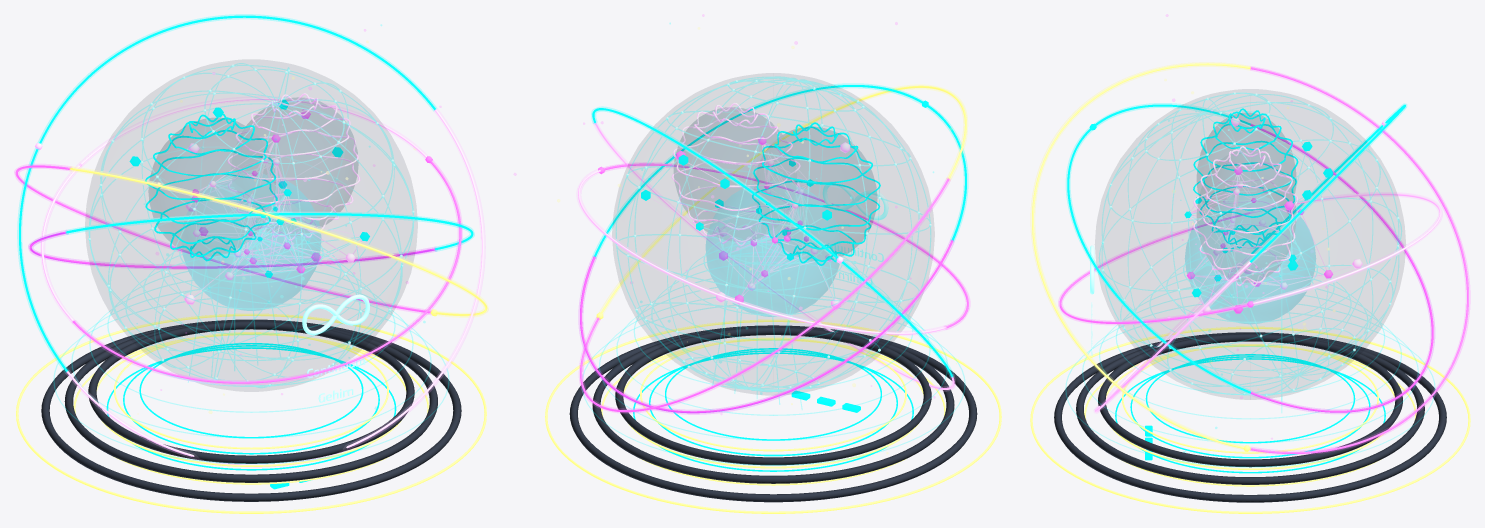
Rendered from continuum-orb.glb.
The picture shows the model from 3 angles, left to right: view 1: azimuth 30°, elevation 25°; view 2: azimuth 150°, elevation 25°; view 3: azimuth 270°, elevation 25°; orthographic projection. The views are drawn at different scales.
Parts seen in each view (by area): view 1: orb-pedestal-rings, orb-brain-lobe--1, orb-pedestal-amber, orb-spherical-grid, orb-brain-lobe-1, orb-core, orb-projection-volume, orb-brain-folds--1, orb-brain-folds-1, orb-pedestal-cyan, orbit-2-1-volume, orbit-2-0-volume (+19 smaller); view 2: orb-pedestal-rings, orb-brain-lobe--1, orb-core, orb-pedestal-amber, orb-brain-lobe-1, orb-spherical-grid, orb-projection-volume, orb-brain-folds--1, orb-brain-folds-1, orb-pedestal-cyan, orbit-1-1-volume, orbit-3-1-volume (+18 smaller); view 3: orb-pedestal-rings, orb-pedestal-amber, orb-spherical-grid, orb-core, orb-brain-lobe-1, orb-projection-volume, orb-brain-folds-1, orb-pedestal-cyan, orb-brain-folds--1, orb-brain-lobe--1, orbit-3-0-volume, orbit-3-1-volume (+17 smaller).
Part boxes in pixels (x1,y1,x2,y2): orb-pedestal-rings: [41, 319, 461, 501]; orb-brain-lobe--1: [149, 118, 275, 255]; orb-pedestal-amber: [16, 313, 486, 513]; orb-spherical-grid: [89, 63, 413, 387]; orb-brain-lobe-1: [232, 98, 357, 235]; orb-core: [182, 176, 320, 310]; orb-projection-volume: [53, 237, 449, 463]; orb-brain-folds--1: [145, 113, 277, 261]; orb-brain-folds-1: [227, 93, 360, 240]; orb-pedestal-cyan: [106, 343, 396, 470]; orbit-2-1-volume: [17, 14, 436, 372]; orbit-2-0-volume: [66, 108, 485, 467]; orb-pedestal-rings: [569, 325, 977, 502]; orb-brain-lobe--1: [754, 127, 876, 260]; orb-core: [706, 184, 839, 316]; orb-pedestal-amber: [545, 319, 1001, 513]; orb-brain-lobe-1: [674, 107, 796, 240]; orb-spherical-grid: [616, 76, 930, 391]; orb-projection-volume: [582, 239, 965, 465]; orb-brain-folds--1: [752, 122, 880, 265]; orb-brain-folds-1: [671, 102, 800, 246]; orb-pedestal-cyan: [633, 348, 913, 471]; orbit-1-1-volume: [578, 239, 953, 414]; orbit-3-1-volume: [579, 178, 950, 413]; orb-pedestal-rings: [1054, 332, 1446, 502]; orb-pedestal-amber: [1030, 326, 1470, 513]; orb-spherical-grid: [1099, 93, 1401, 395]; orb-core: [1185, 210, 1315, 323]; orb-brain-lobe-1: [1197, 151, 1295, 282]; orb-projection-volume: [1065, 248, 1435, 467]; orb-brain-folds-1: [1193, 146, 1298, 286]; orb-pedestal-cyan: [1115, 354, 1385, 473]; orb-brain-folds--1: [1193, 108, 1298, 248]; orb-brain-lobe--1: [1197, 113, 1295, 193]; orbit-3-0-volume: [1030, 62, 1250, 450]; orbit-3-1-volume: [1250, 66, 1470, 454].
Size of the model in its own units: 2.93 by 2.77 by 2.81.
